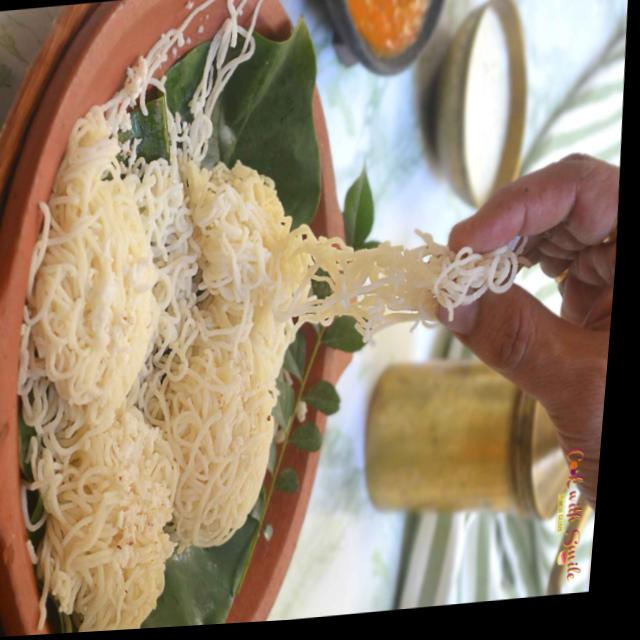IDIYAPPAM: (26, 100, 444, 632)
